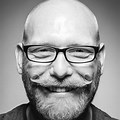person: (16, 1, 106, 118)
